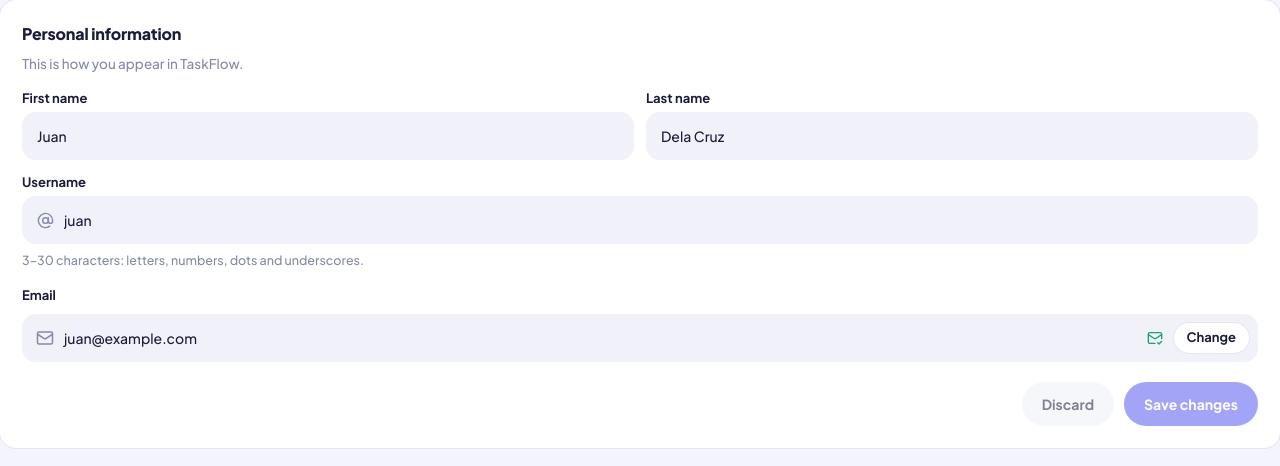
Test case: AccountForm › shows "already taken" on the username field
Replace the text in the field labelled "Username" with "maria" at (654, 220), box left=64, top=198, right=1243, bottom=242
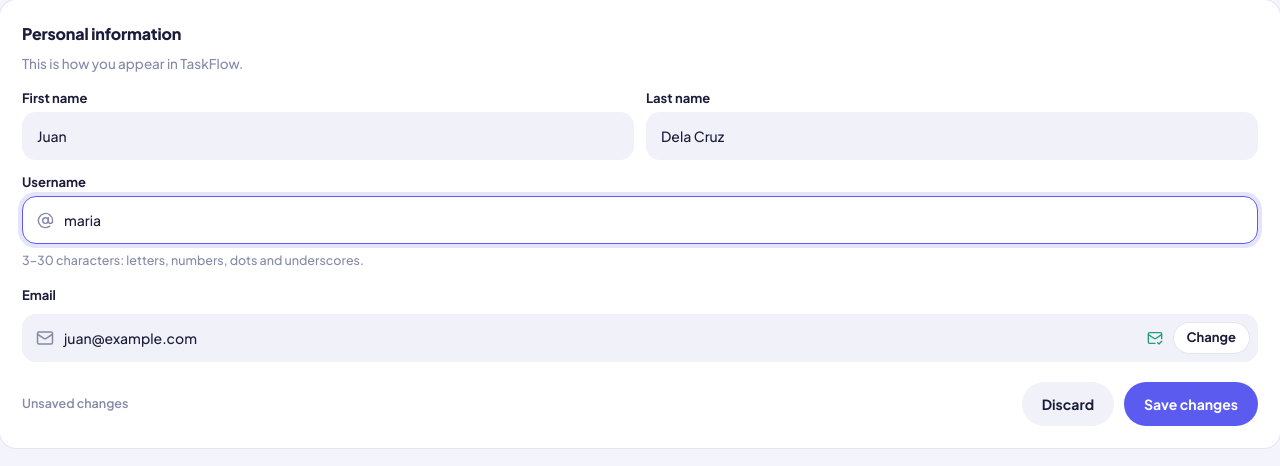
Click the button "Save changes".
click(1191, 404)  # box left=1124, top=382, right=1258, bottom=426
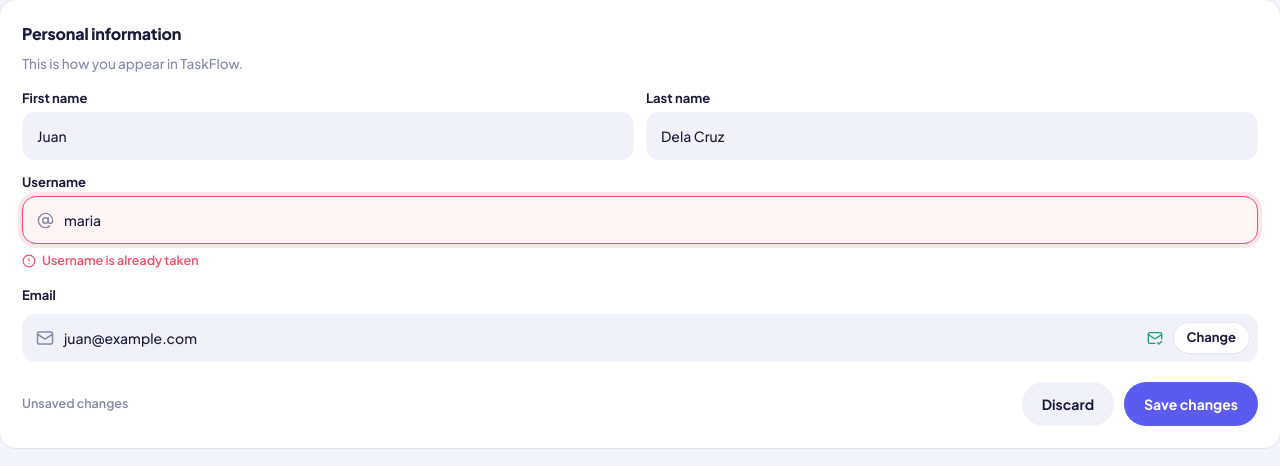
Check: the text "Username is already taken" is shown, box left=22, top=252, right=198, bottom=268
